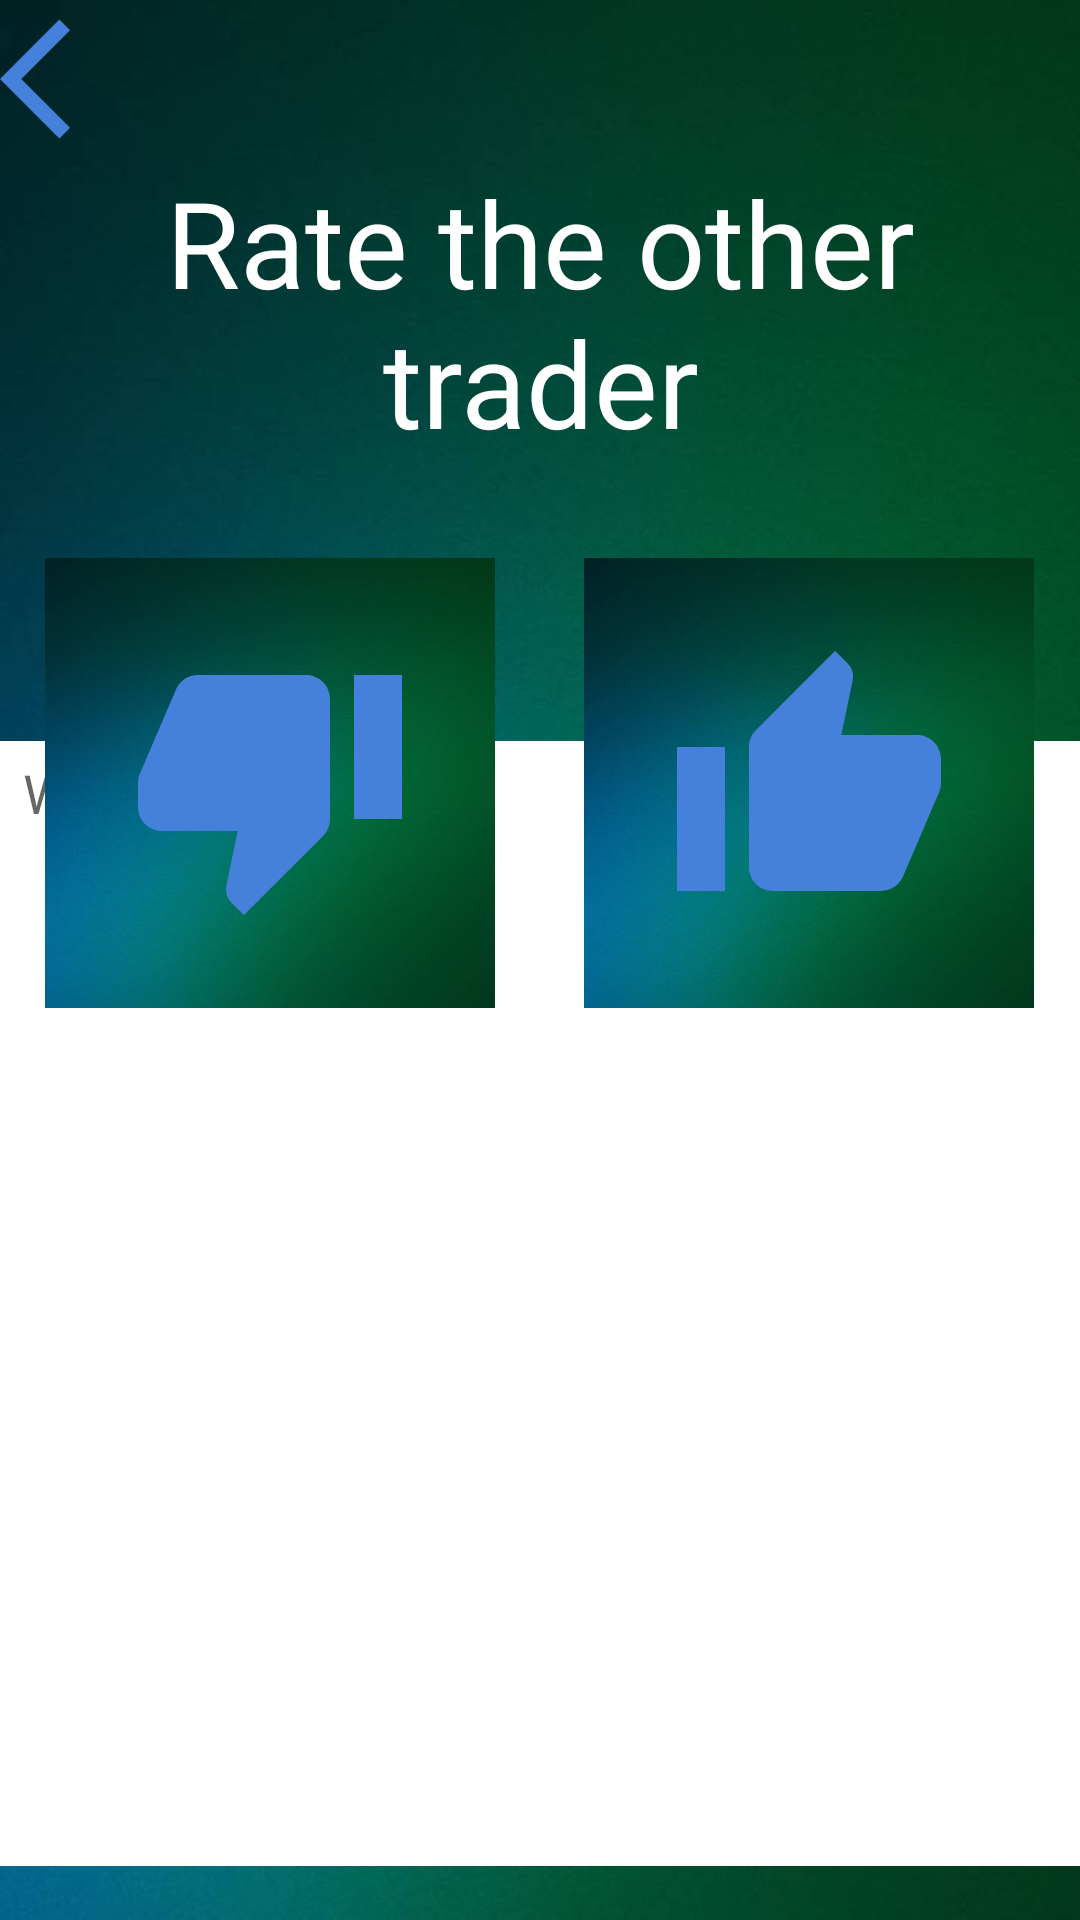

Point at icon controls on the screen. Image size 1080px x 1920px, points as [x,y].
Back button: [35,79]
